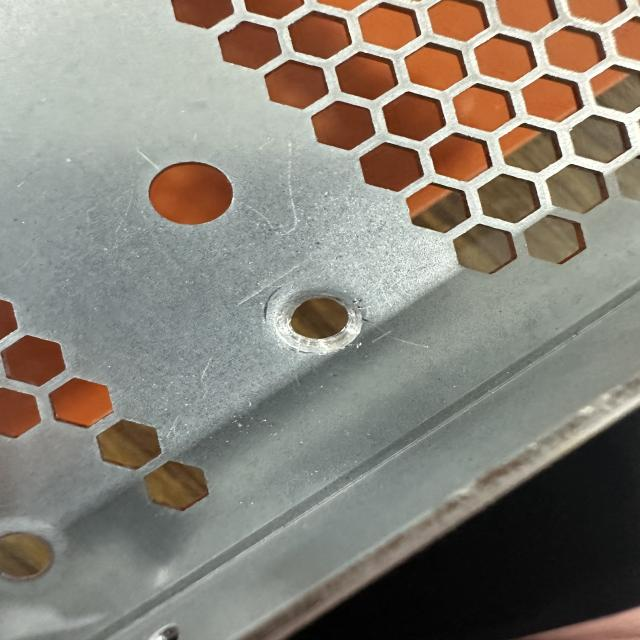Missing screw: (260, 273, 376, 367)
